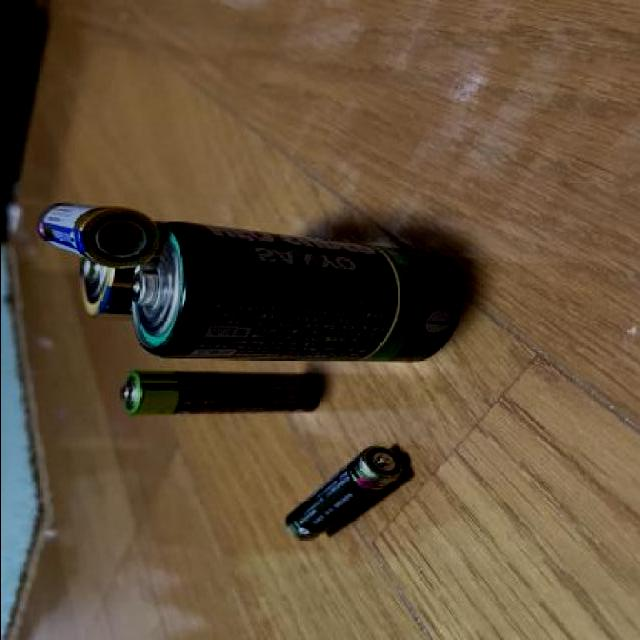AAA: (282, 443, 408, 542), (115, 366, 323, 419)
